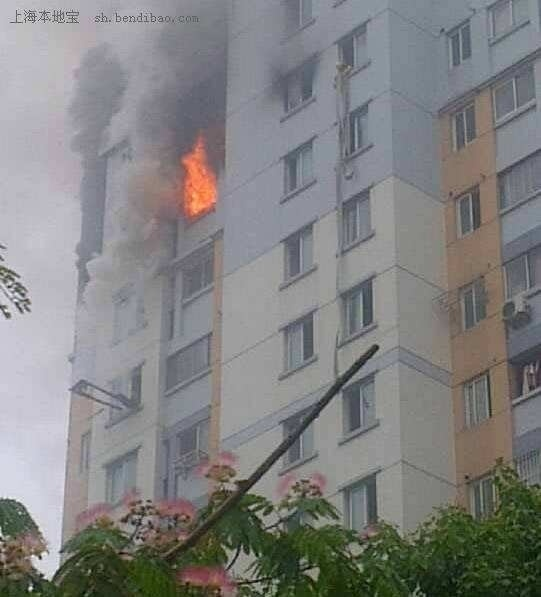fire: (180, 133, 219, 217)
